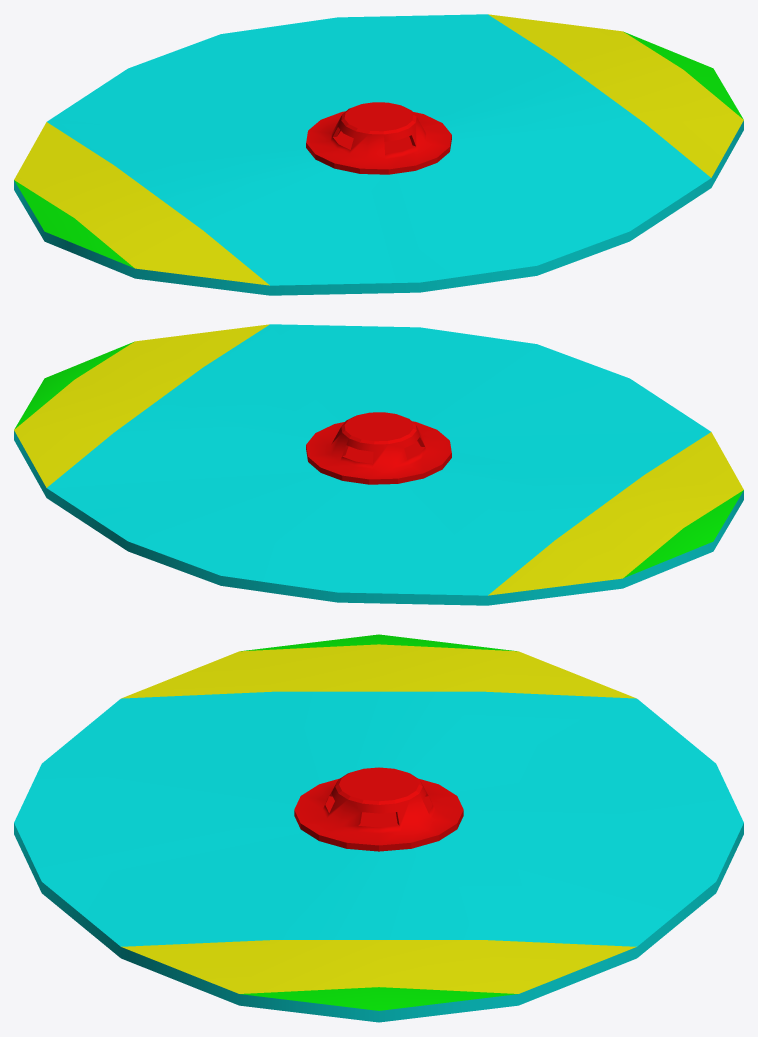
The model's file is chest seal blockout 1.fbx.
3 renders of one model, top to bottom at view 1: azimuth 30°, elevation 25°; view 2: azimuth 150°, elevation 25°; view 3: azimuth 270°, elevation 25°, orthographic. The views are drawn at different scales.
Parts seen in each view (by area): view 1: pCylinder3; view 2: pCylinder3; view 3: pCylinder3.
Part boxes in pixels (x1,y1,x2,y2): pCylinder3: (14, 14, 743, 295); pCylinder3: (14, 324, 743, 605); pCylinder3: (14, 634, 743, 1022).
Bounding box in the file's own units: 21.54 × 1.33 × 17.65.
